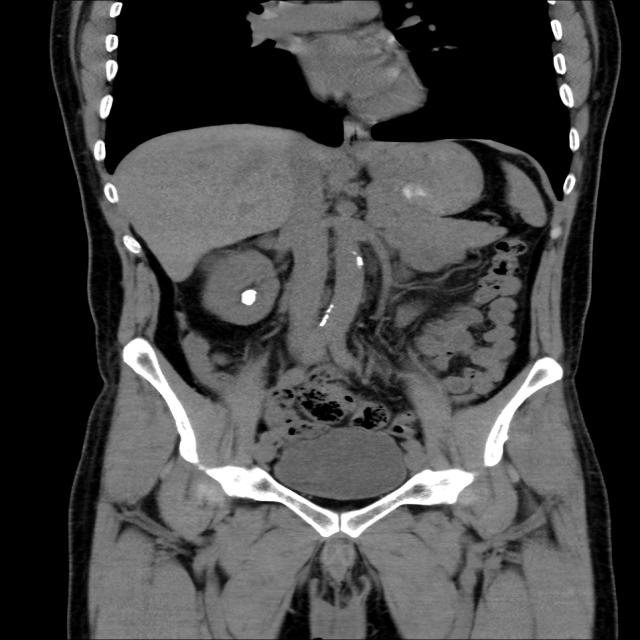kidneystone: (241, 289, 256, 305)
